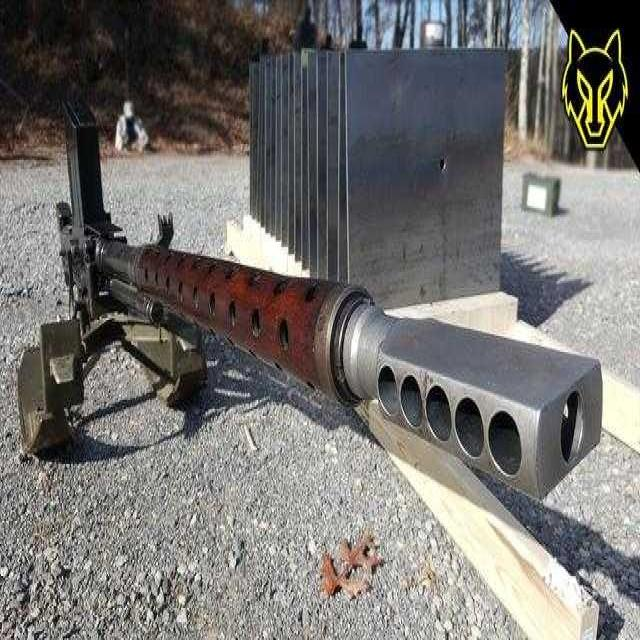heavyweapon: (52, 97, 609, 527)
